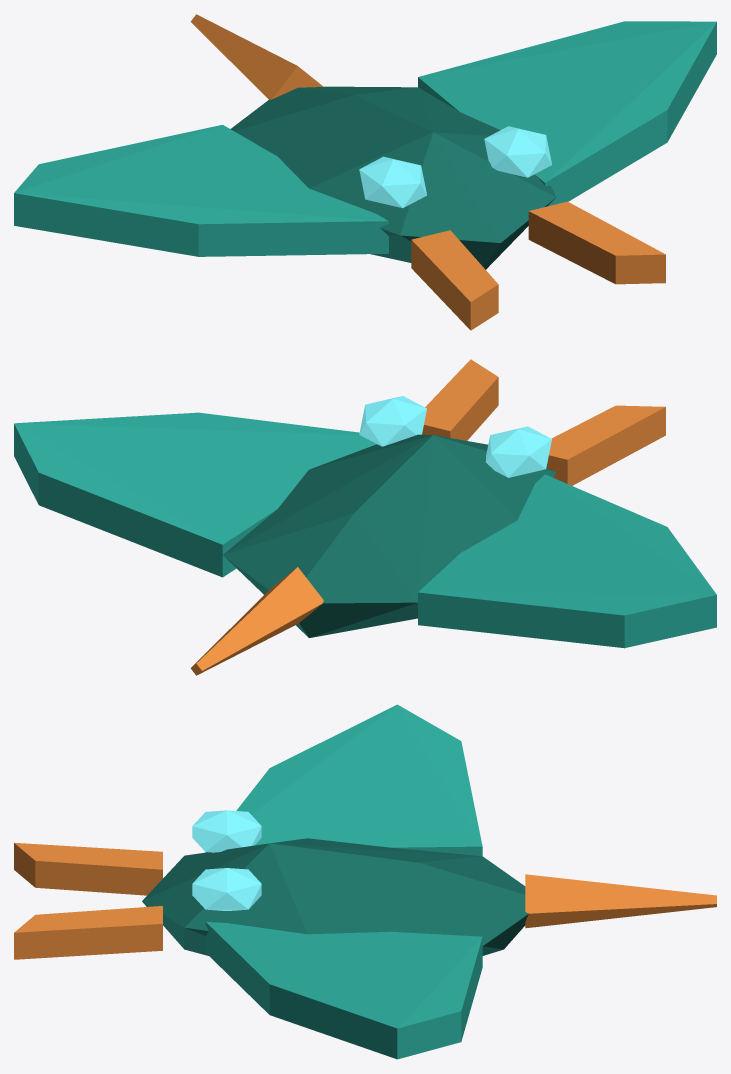
Rendered from alien_swooper.glb.
The picture shows the model from 3 angles, top to bottom: view 1: azimuth 30°, elevation 25°; view 2: azimuth 150°, elevation 25°; view 3: azimuth 270°, elevation 25°; orthographic projection. The views are drawn at different scales.
Visible parts, largest first — view 1: alien_swooper, anim_wing_L, anim_wing_R, anim_tail; view 2: alien_swooper, anim_wing_R, anim_wing_L, anim_tail; view 3: alien_swooper, anim_wing_R, anim_wing_L, anim_tail.
Boxes of the visible parts, x1,y1,x2,y2 form: alien_swooper: (230, 86, 665, 330); anim_wing_L: (14, 124, 388, 256); anim_wing_R: (418, 21, 716, 206); anim_tail: (190, 14, 323, 99); alien_swooper: (223, 359, 665, 637); anim_wing_R: (14, 412, 376, 577); anim_wing_L: (418, 474, 716, 648); anim_tail: (190, 567, 323, 675); alien_swooper: (14, 810, 528, 959); anim_wing_R: (205, 922, 482, 1059); anim_wing_L: (205, 704, 482, 856); anim_tail: (525, 874, 716, 928).
Bounding box in the file's own units: 36 × 6.22 × 33.
Materials: 2 (2 with a texture image).
